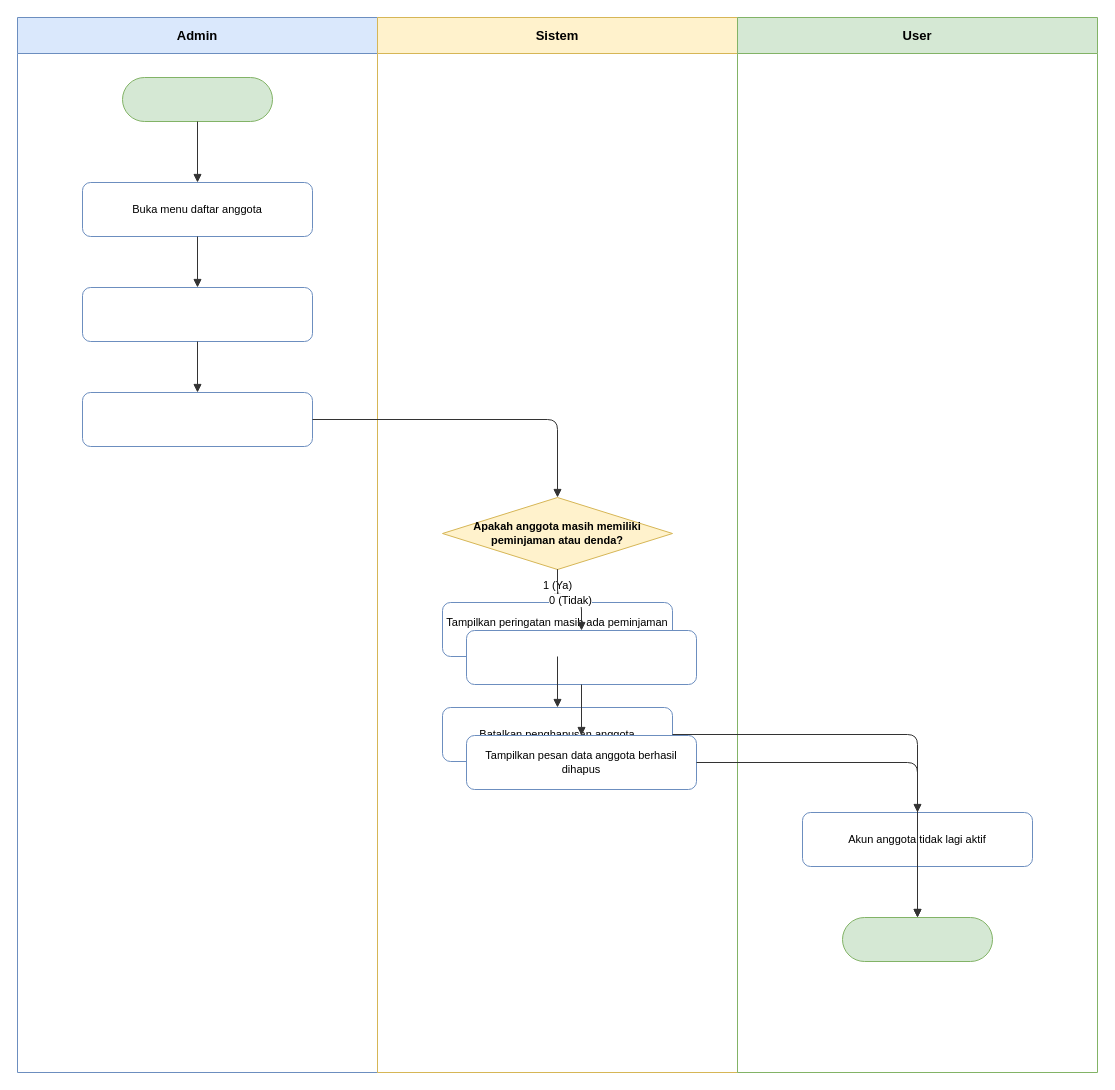
This 1115x1090 diagram has some shape labels left out. The shapes that lost their labels are listed below. From the top down, each one's centre as x and y in pixels, then its label:
At pixel 197 99: "Mulai".
At pixel 197 314: "Pilih anggota yang ingin dihapus".
At pixel 197 419: "Klik tombol hapus anggota".
At pixel 581 657: "Hapus akun dan data anggota".
At pixel 917 939: "Selesai".
